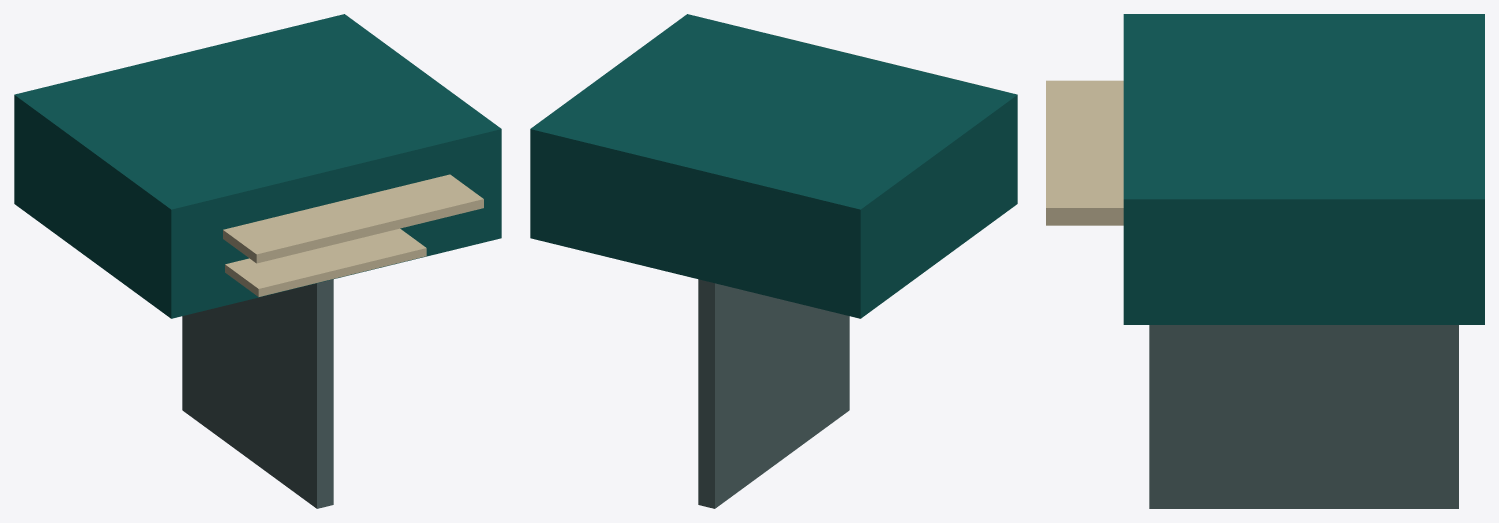
Rendered from sign.glb.
3 views of the same model, side by side, from view 1: azimuth 30°, elevation 25°; view 2: azimuth 150°, elevation 25°; view 3: azimuth 270°, elevation 25° (orthographic). The views are drawn at different scales.
Visible parts, largest first — view 1: sign_body; view 2: sign_body; view 3: sign_body.
Part boxes in pixels (box(x1,y1,x2,y2)): sign_body: box(14, 14, 501, 508); sign_body: box(530, 14, 1017, 508); sign_body: box(1046, 14, 1484, 508).
Bounding box in the file's own units: 1 × 1 × 1.
